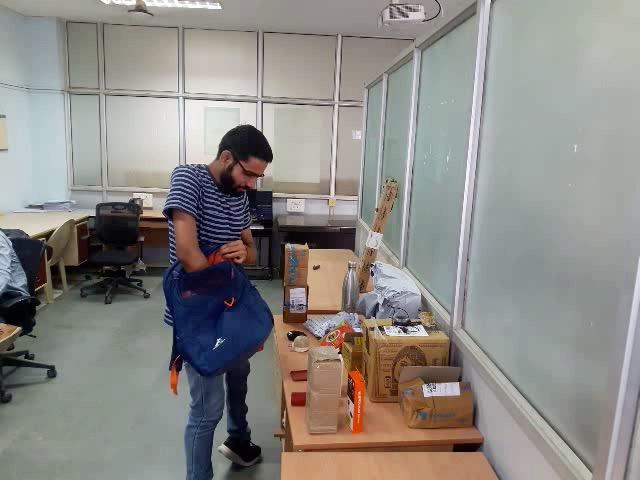shoplifting: (120, 241, 329, 422)
